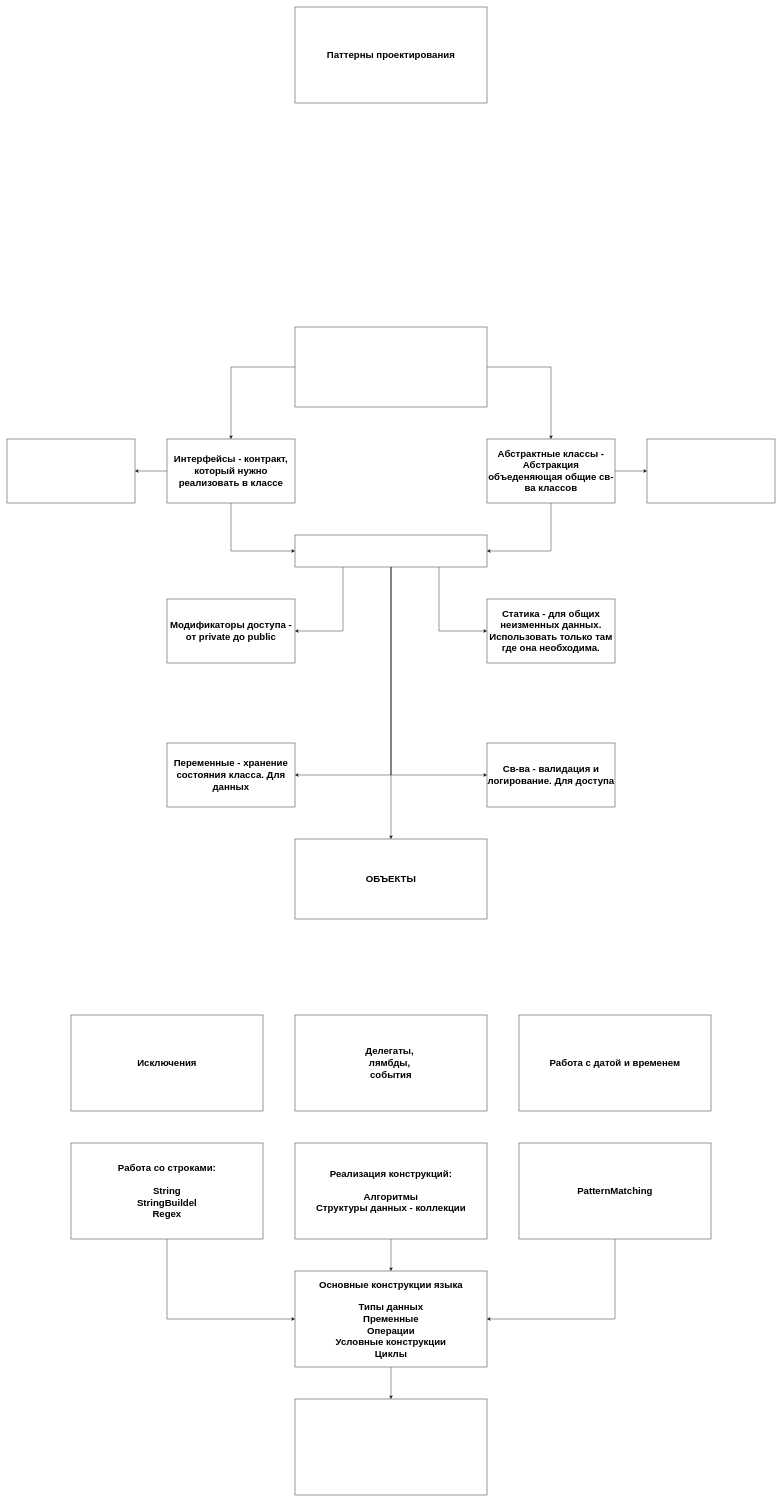
Some shapes in this 782 by 1502 pixel diagram are drawn without their labels. The shapes that lost their labels are listed below. From the top down, each one's centre as x and y in pixels, then its label:
At point (391, 367): "ООП".
At point (71, 471): "DI".
At point (711, 471): "Наследование".
At point (391, 551): "Классы - шаблон для методов".
At point (391, 1447): "Управление памятью Стек Куча".
